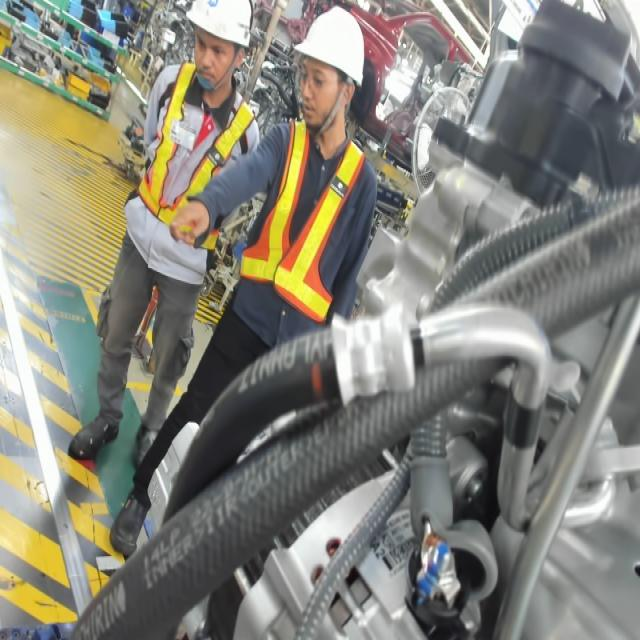Alternator-BA2: (368, 533, 390, 569)
Hose Discharge-HT: (501, 378, 547, 455)
